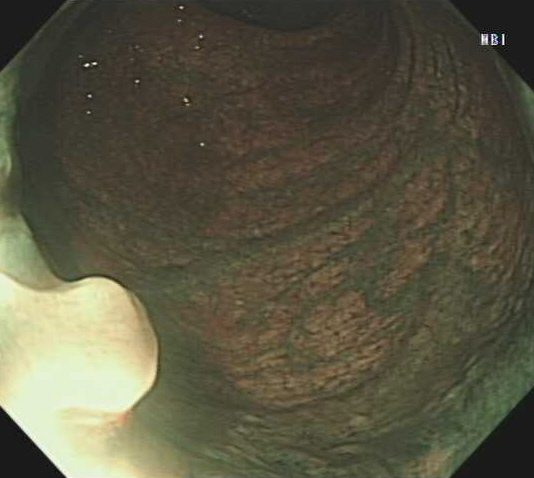others: (53, 274, 161, 417)
